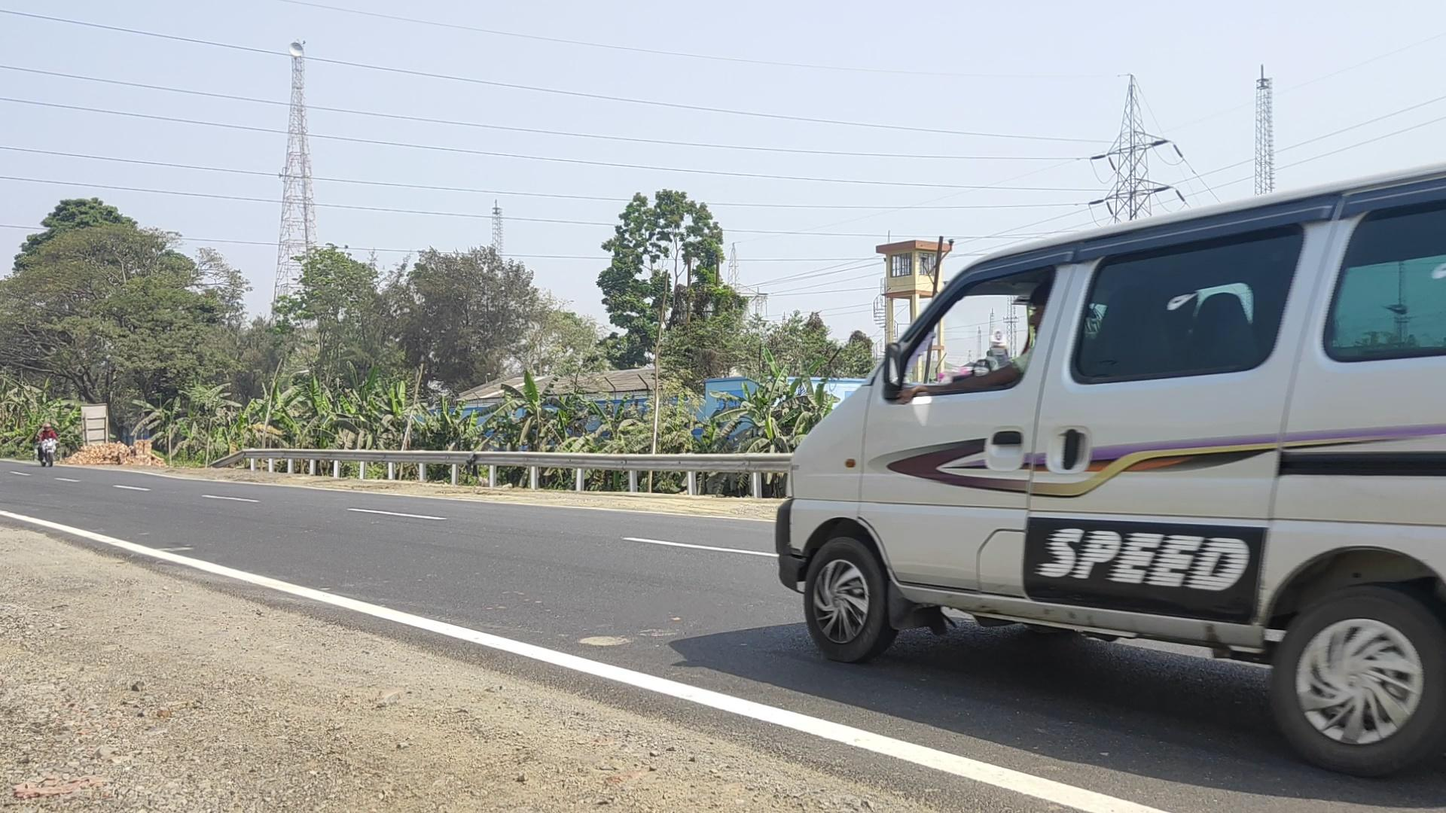bike: (36, 422, 59, 467)
van: (776, 158, 1446, 778)
